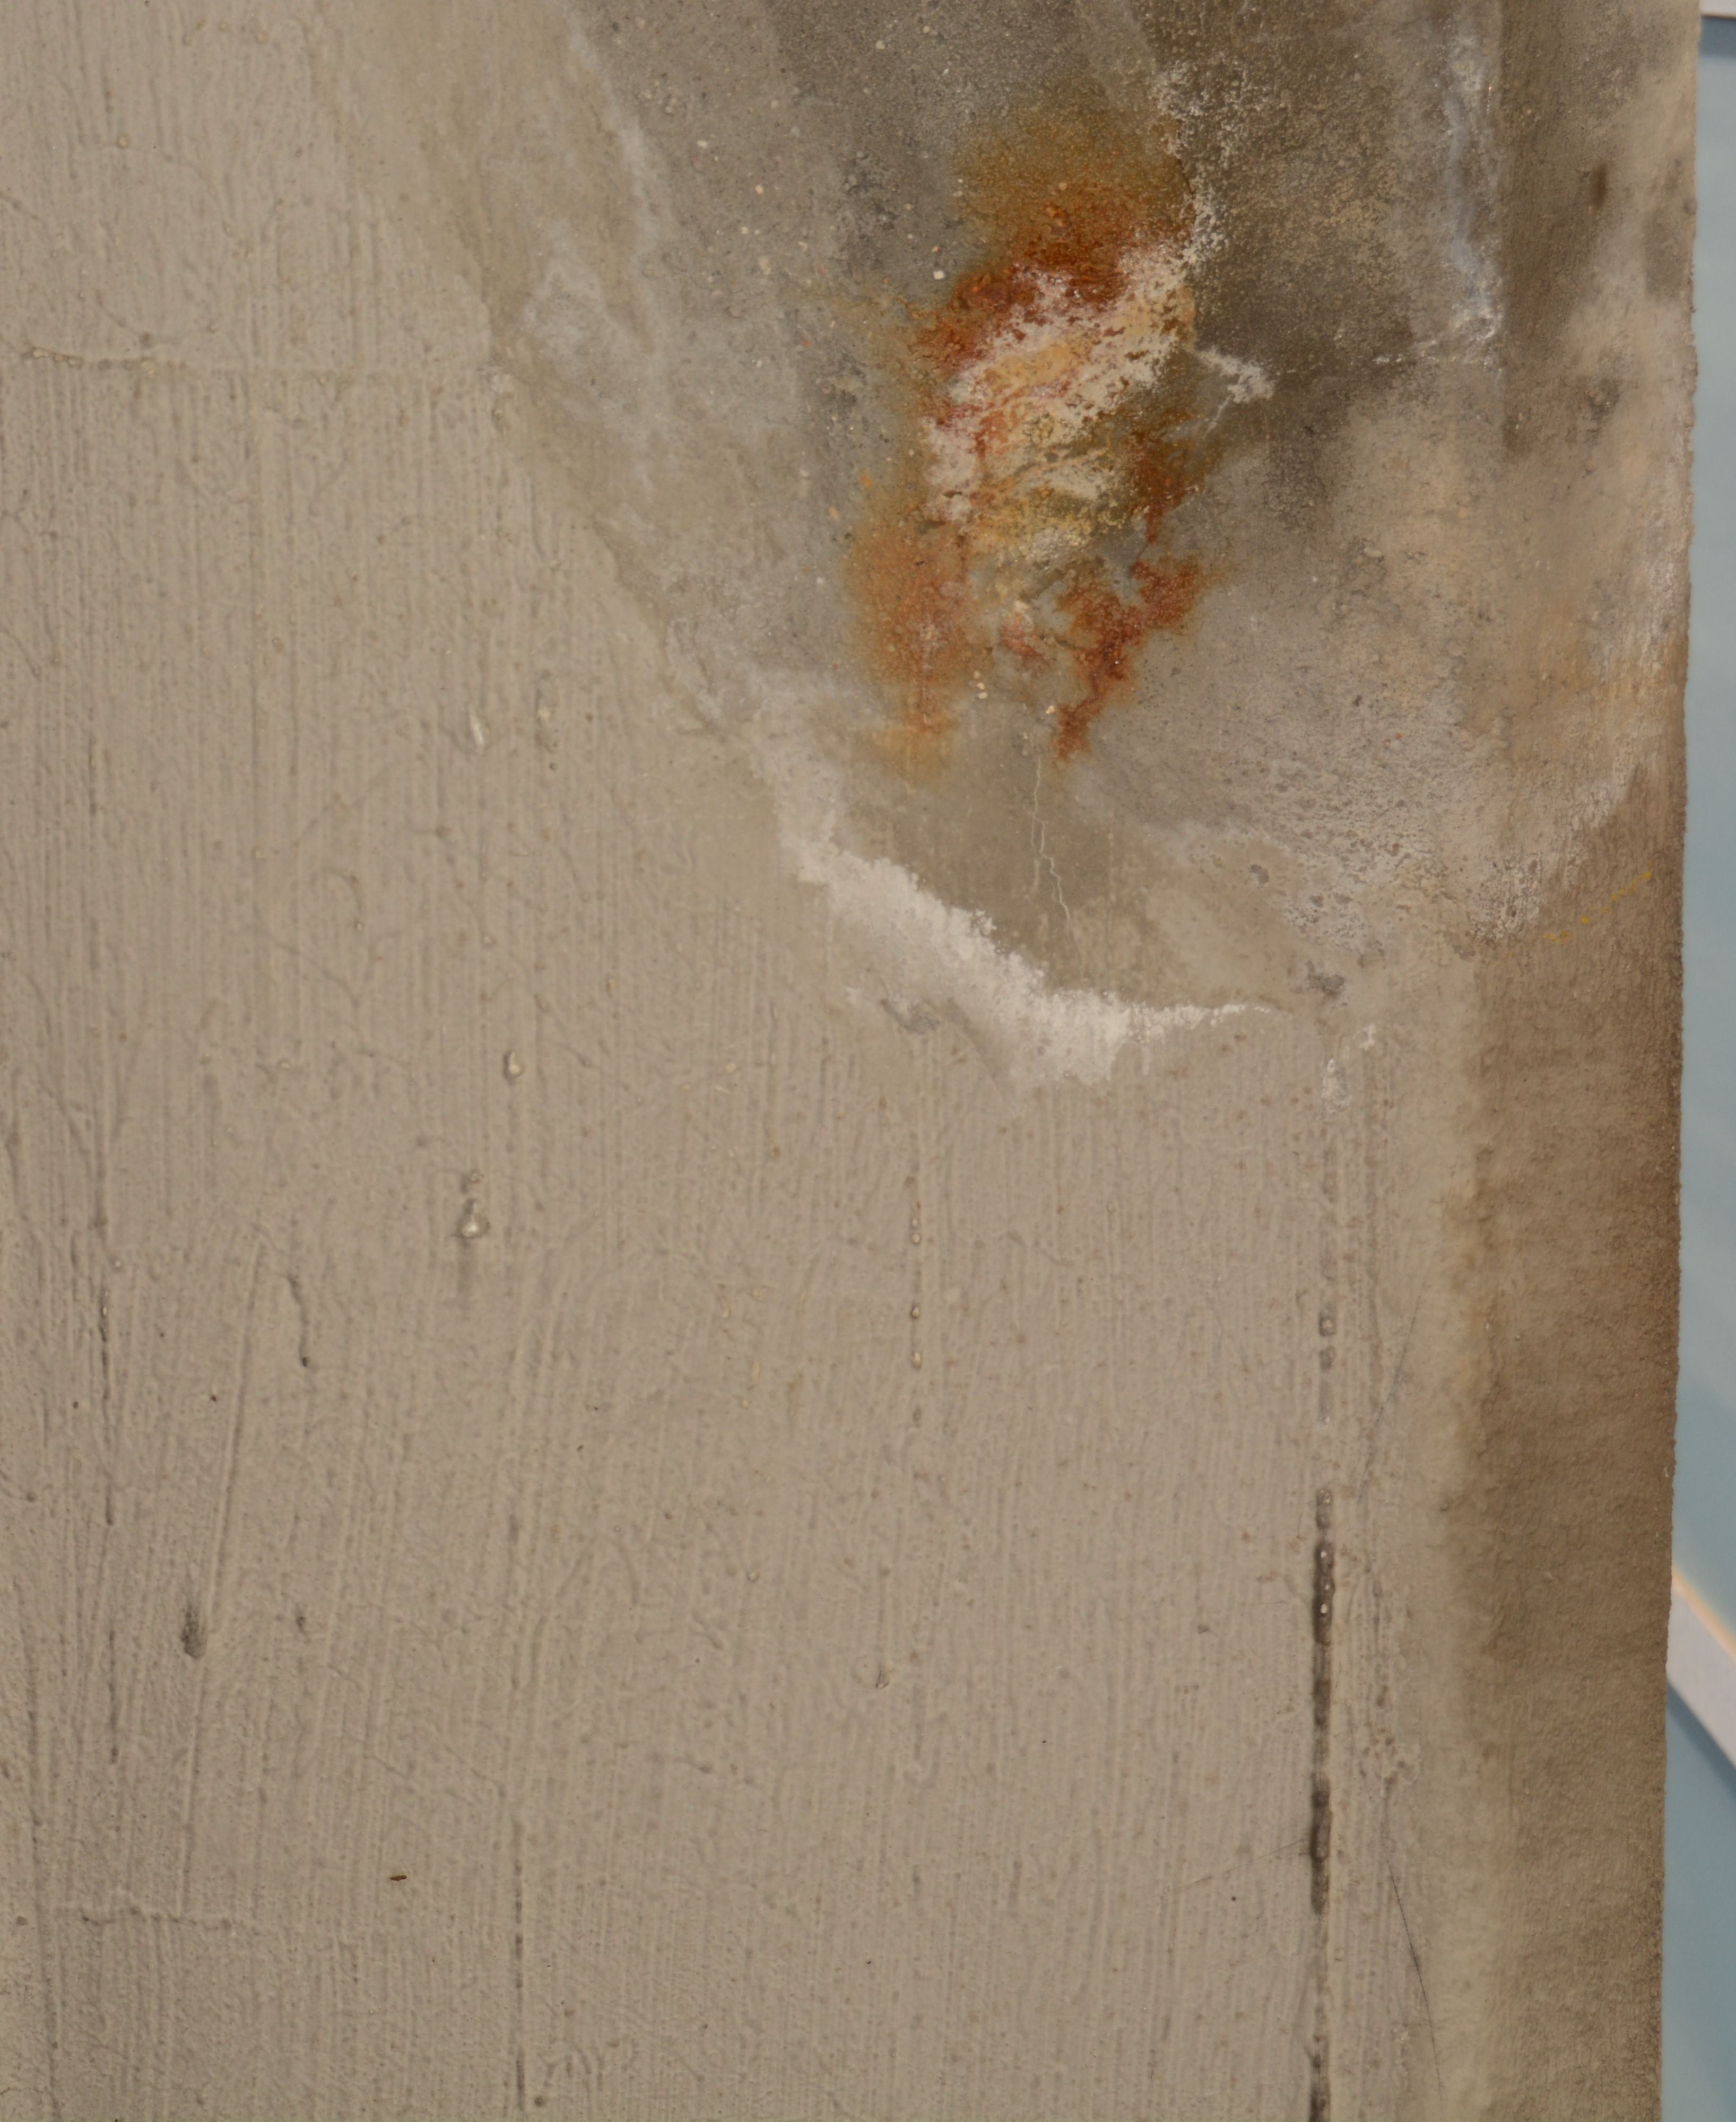Corrosion: (837, 122, 1271, 777)
